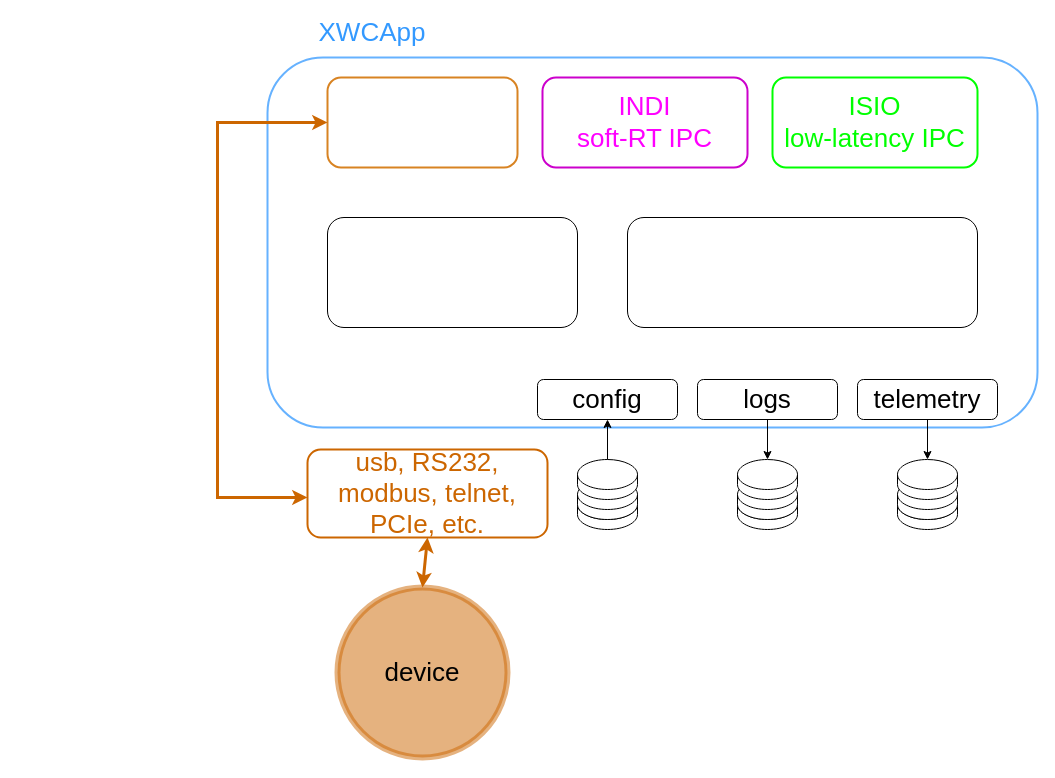
This 1055x778 diagram has some shape labels left out. Each missing label, with the centre of its shape:
device interface: the point at 422,122
Event Loop: the point at 452,272
low-latency thread(s) (cpu isolated, r/t priority, etc.): the point at 802,272
